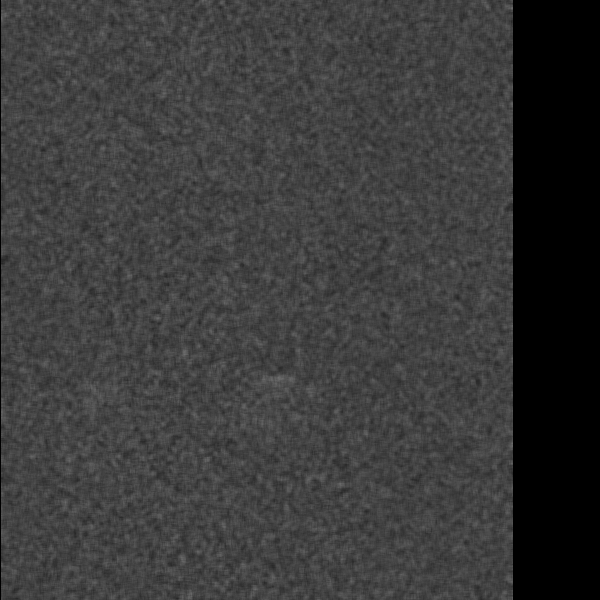spark: (266, 369, 293, 398)
